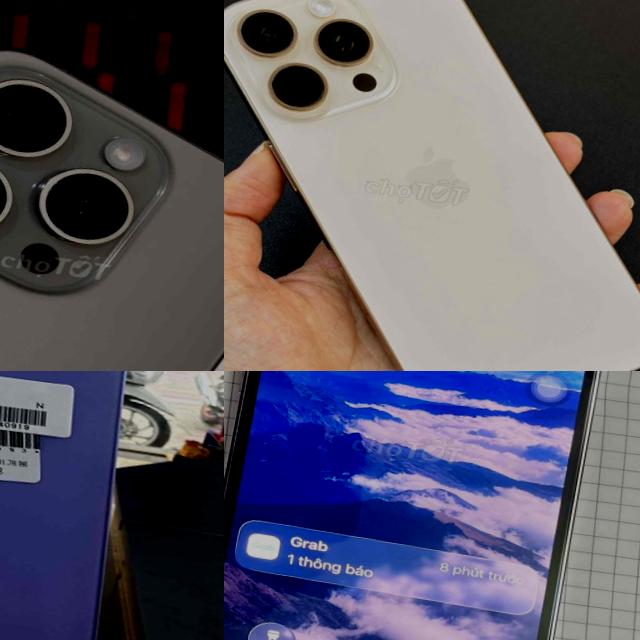gen_12_13: (224, 371, 628, 640), (0, 371, 155, 640)
gen_15: (0, 5, 224, 371)
gen_16: (224, 0, 640, 371)
